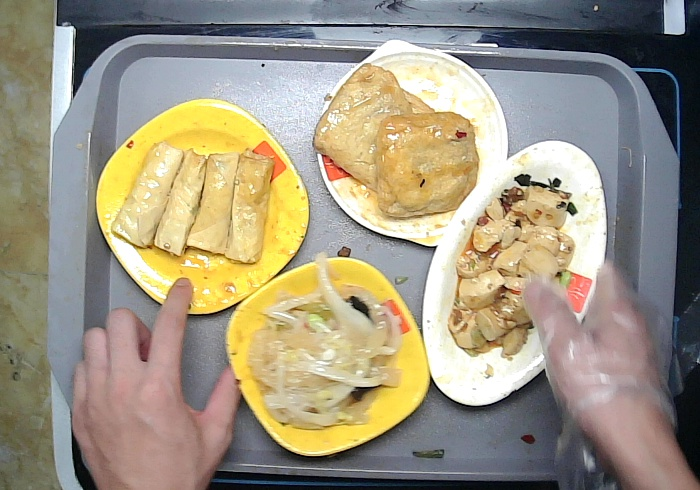SHKJ-Bao_Yu_Pan: (312, 32, 516, 265)
SHKJ-Huang_Se_Cai_Die: (223, 252, 436, 461)
SHKJ-Huang_Se_Si_Fang_Cai_Die: (91, 95, 317, 324)
SHKJ-Yu_Pan: (414, 131, 613, 415)
